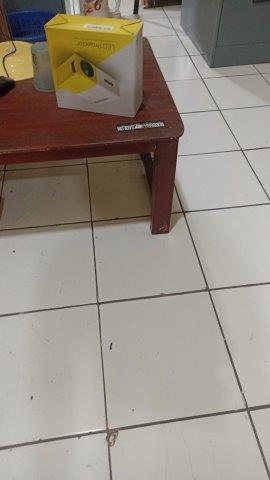kardus: (44, 12, 143, 116)
